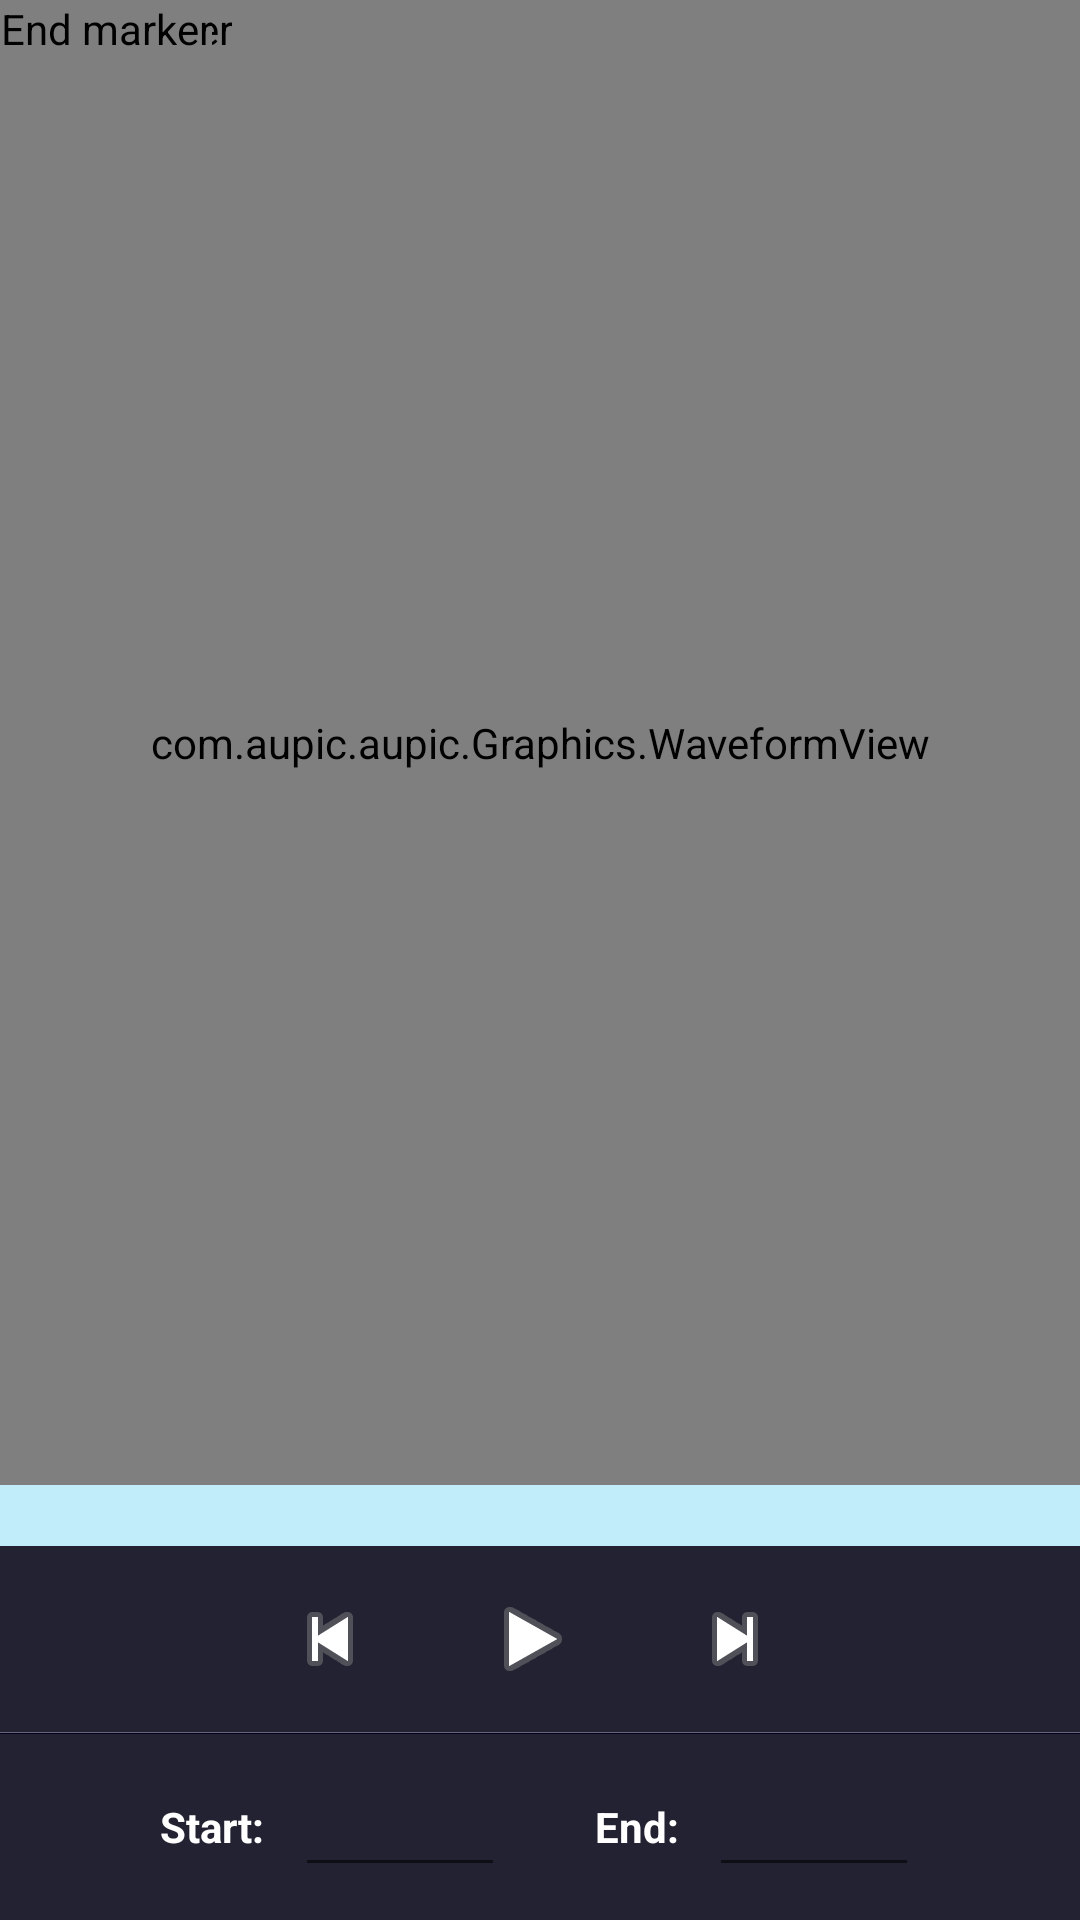

Screen size 1080px x 1920px. Icon name, then its box in pixels as (x1, y1, x2, y2):
Fast forward: (712, 1612, 758, 1666)
Play: (504, 1607, 562, 1671)
Rewind: (307, 1612, 353, 1666)
